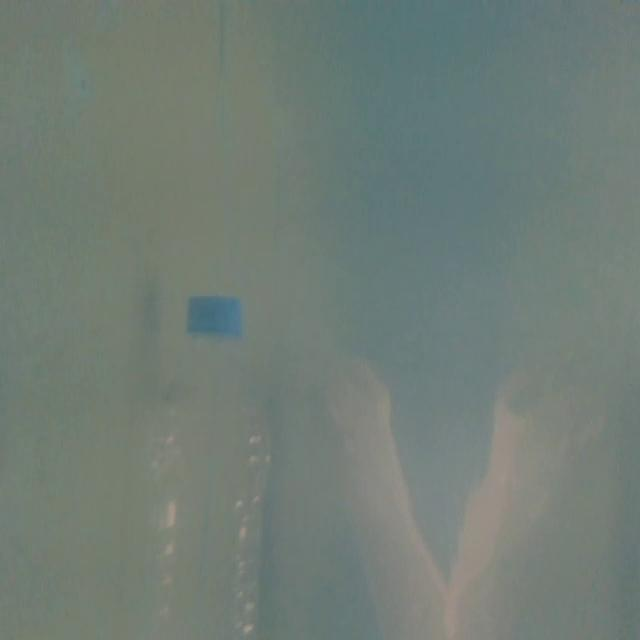plastic bags: (322, 350, 568, 640)
plastic bottle: (143, 289, 270, 640)
